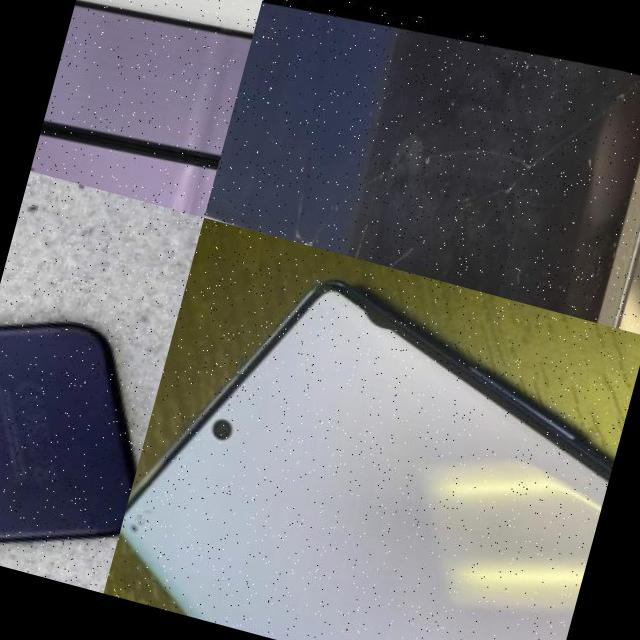dead pixel: (327, 268, 435, 358)
screen crack: (203, 138, 551, 304)
